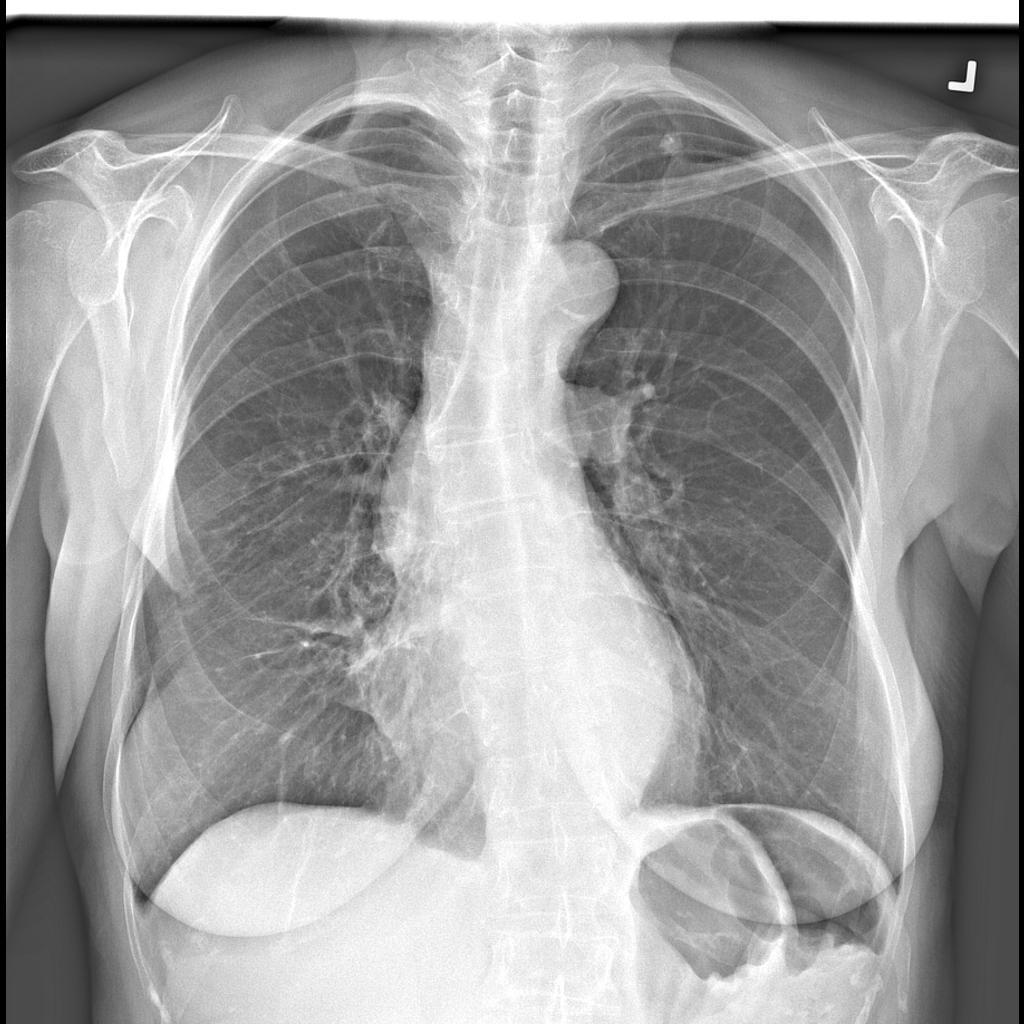Nodule: (661, 127, 689, 165)
